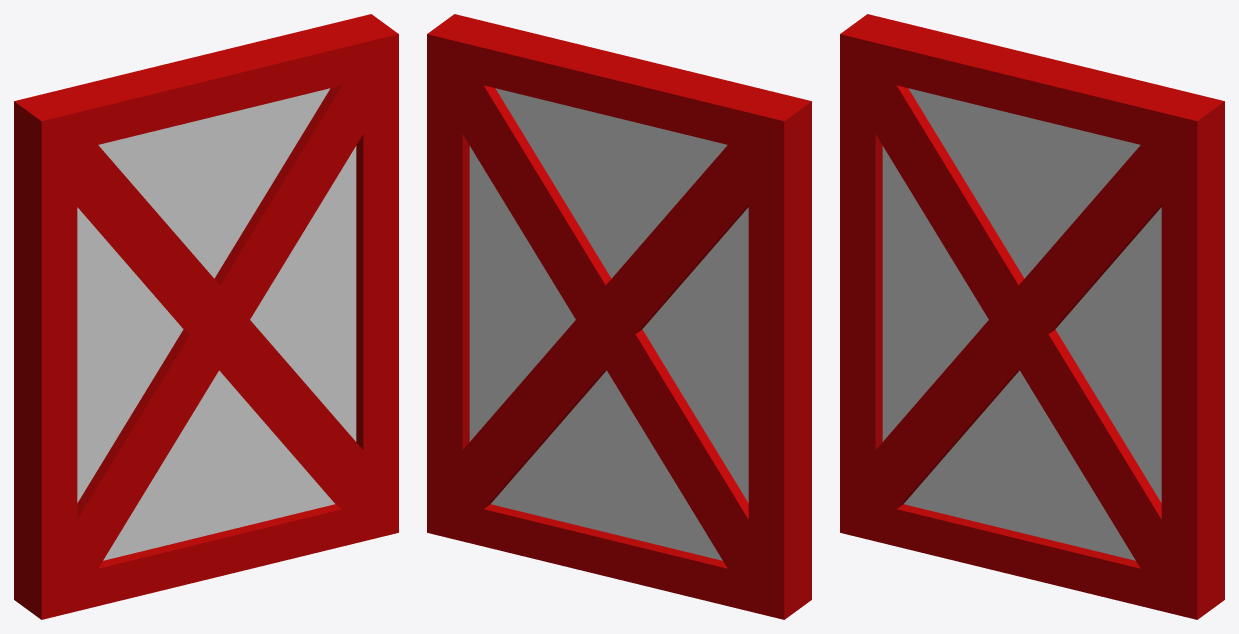
File: TargetX.fbx
The picture shows the model from 3 angles, left to right: view 1: azimuth 30°, elevation 25°; view 2: azimuth 150°, elevation 25°; view 3: azimuth 330°, elevation 25°; orthographic projection.
Visible parts, largest first — view 1: TargetX; view 2: TargetX; view 3: TargetX.
Part boxes in pixels (x1,y1,x2,y2): TargetX: (14,14,398,619); TargetX: (427,14,811,619); TargetX: (840,14,1224,619).
Size of the model in its own units: 75 by 100 by 10.
